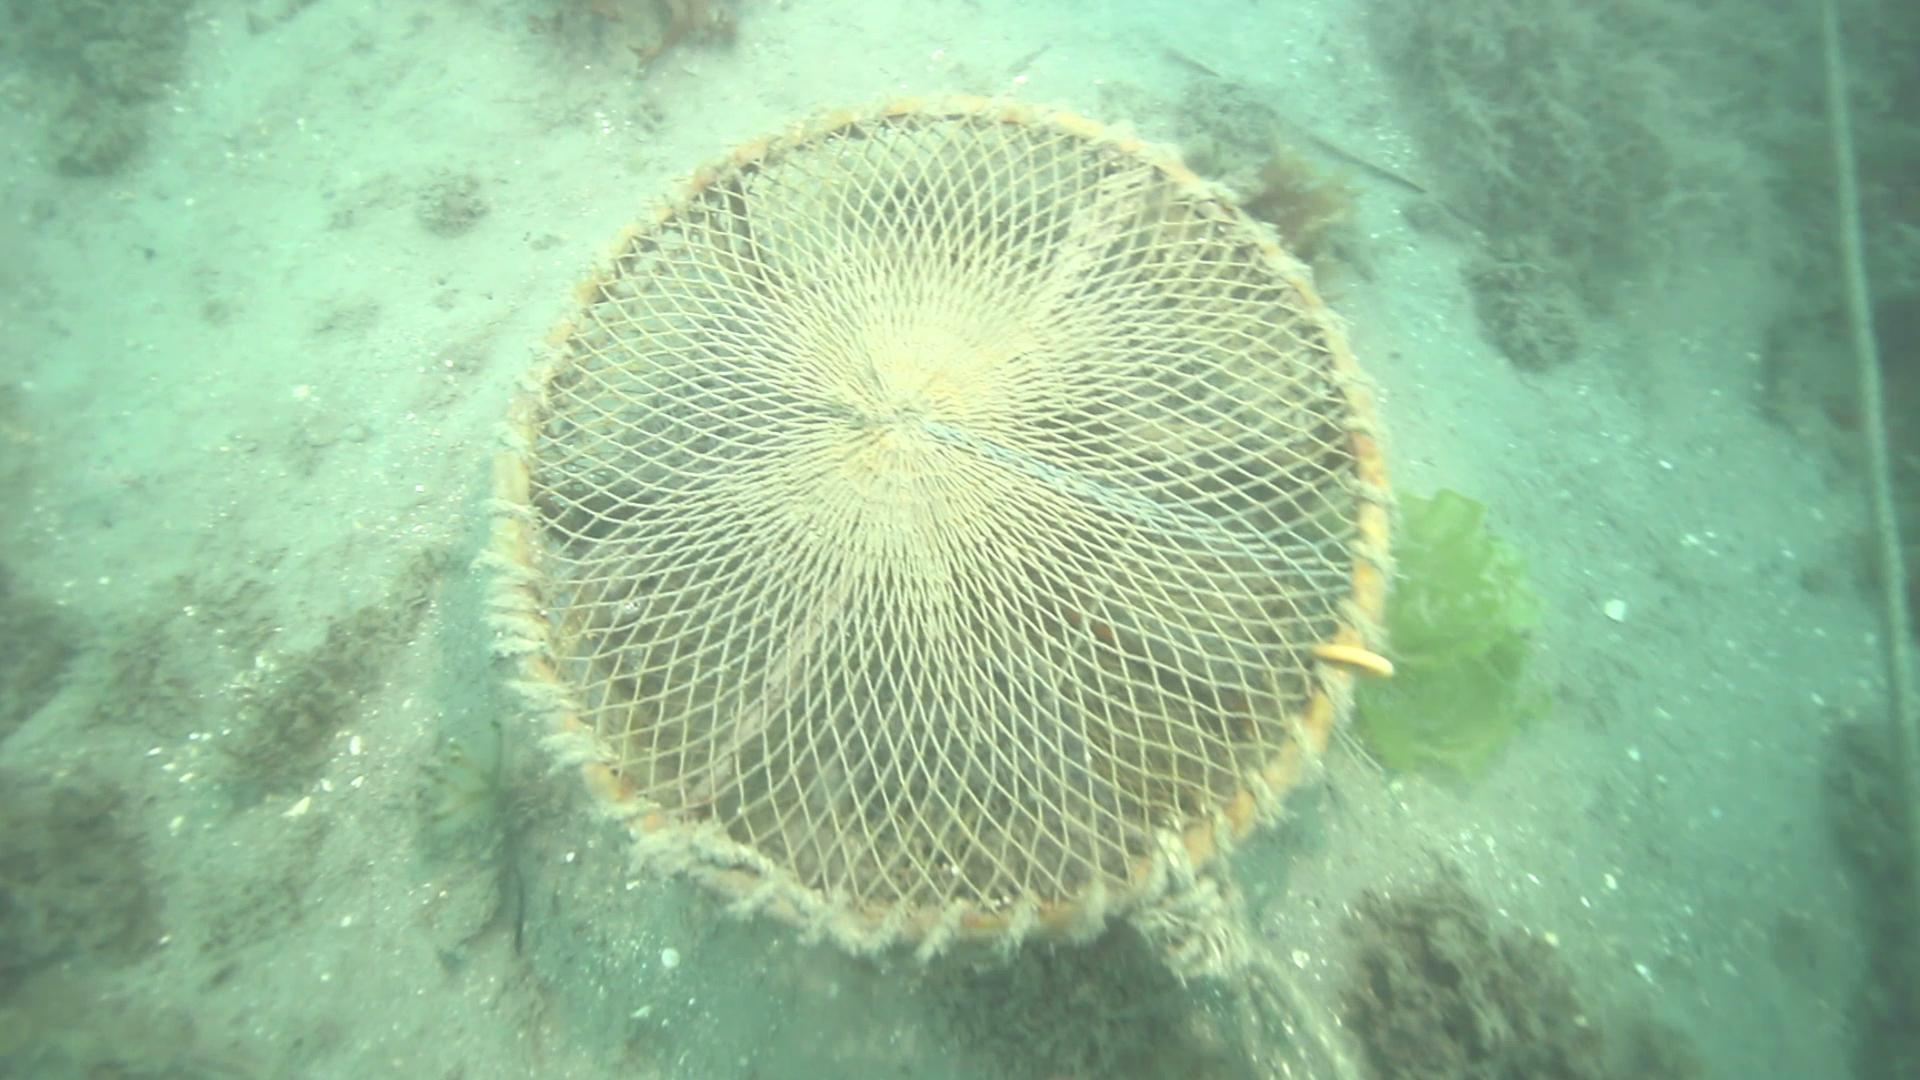bundle of ropes: (1116, 856, 1346, 1072)
circular fish trap: (477, 87, 1404, 956)
